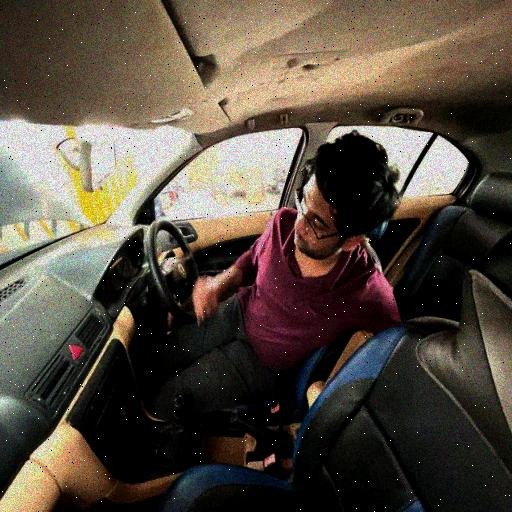Reaching_behind: (183, 132, 404, 421)
